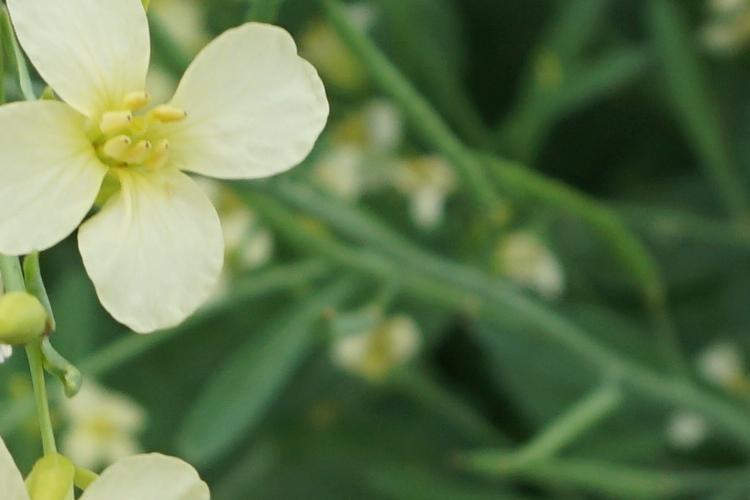bud: (1, 290, 60, 359)
white: (2, 4, 322, 305), (10, 434, 209, 498)
